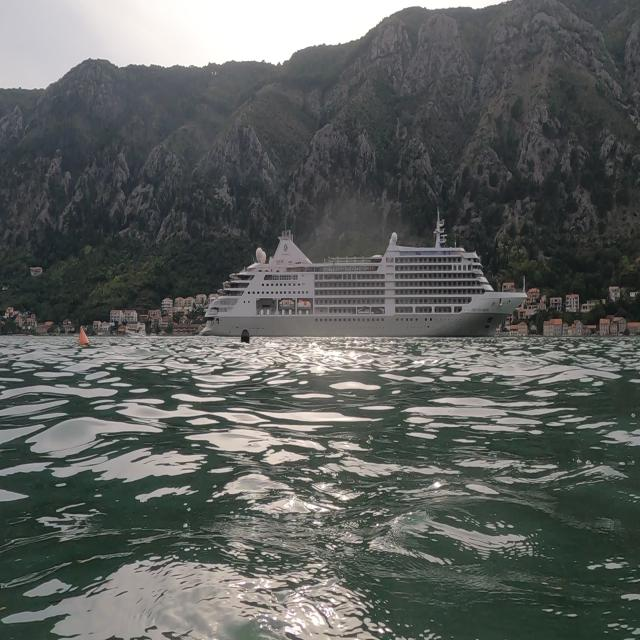boat: (198, 206, 529, 342)
buoy: (76, 318, 95, 356), (236, 322, 256, 351)
